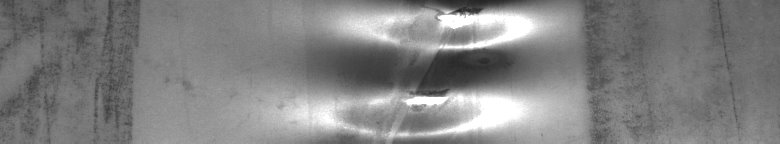ke: (329, 4, 524, 136)
